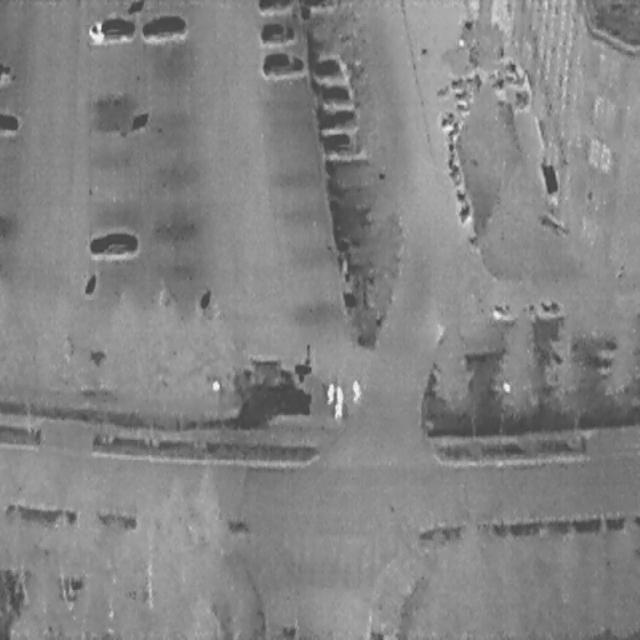Car: (88, 227, 138, 255), (260, 49, 304, 79), (87, 16, 134, 42), (140, 13, 185, 36), (318, 106, 356, 132), (323, 131, 362, 155), (312, 54, 345, 80), (260, 22, 294, 42), (319, 85, 353, 104), (258, 0, 290, 16), (0, 111, 18, 131), (0, 62, 13, 82)
Person: (352, 378, 361, 402), (326, 382, 334, 403), (334, 399, 342, 420), (335, 385, 343, 405)
